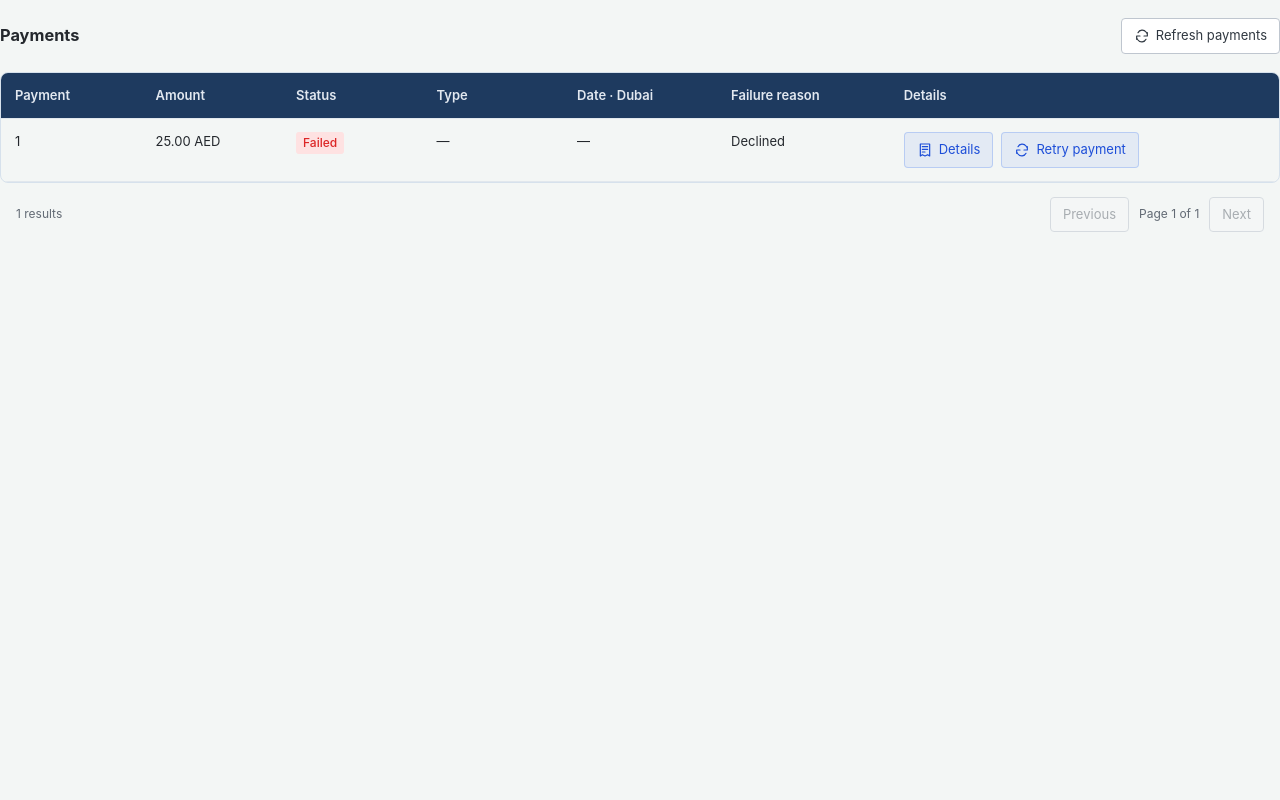
Test: opens payment fields in a separate record sheet without expanding the table row
This screenshot has width=1280, height=800.
Click the button with aria-label "View payments record 1" at coordinates (948, 150), box [904,132,993,168]
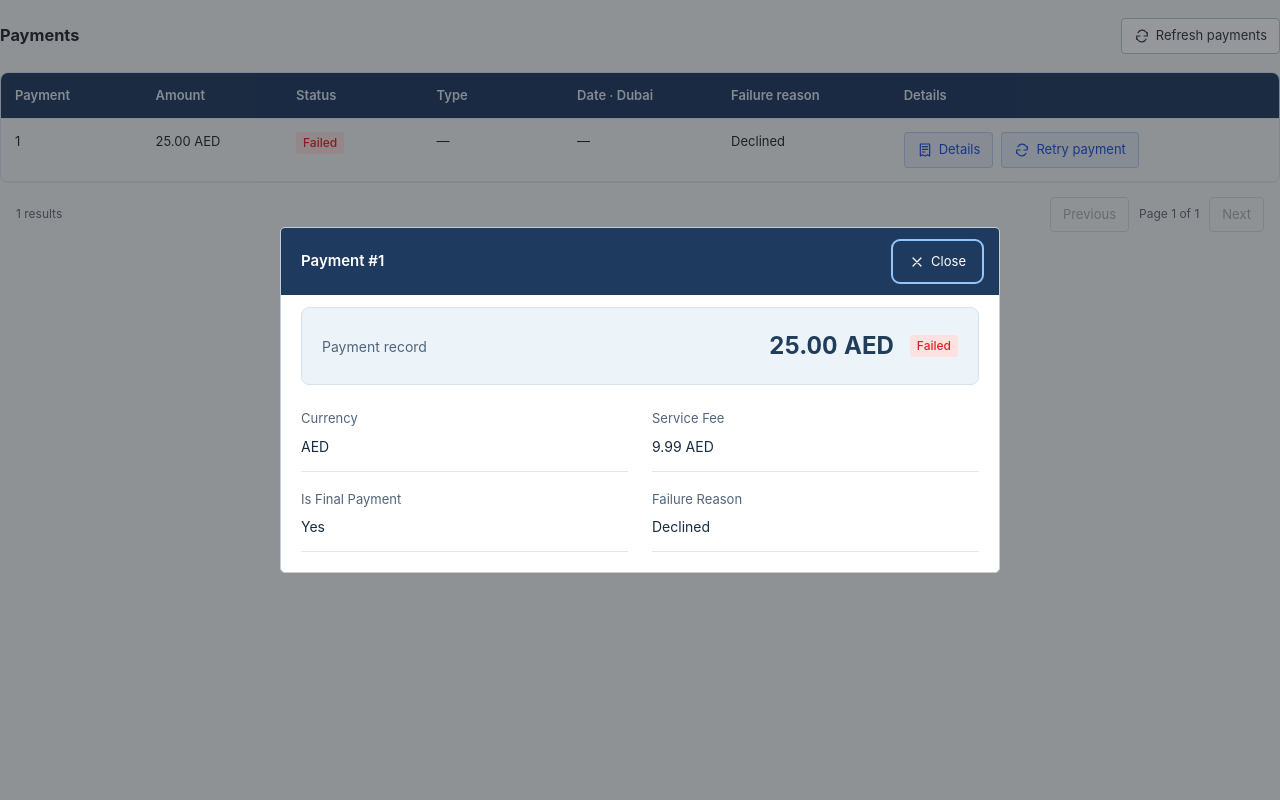
Result: the dialog "Payment #1" is shown at [280,227,1000,573]
Result: the text "9.99 AED" is shown at [652,438,714,455]
Result: the text "Yes" is shown at [301,518,325,535]
Click the button with aria-label "Close dialog" at coordinates (938, 262), box [896,244,979,279]
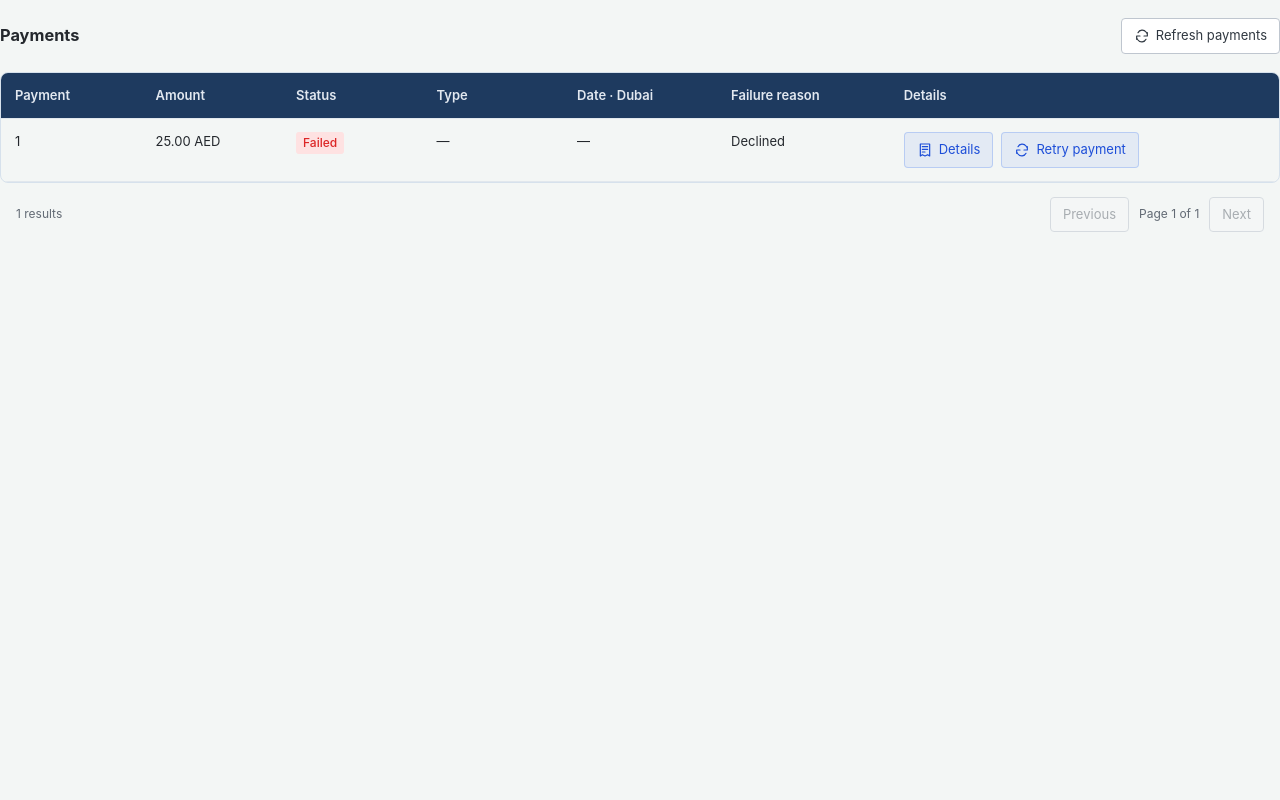
Result: the dialog is gone
